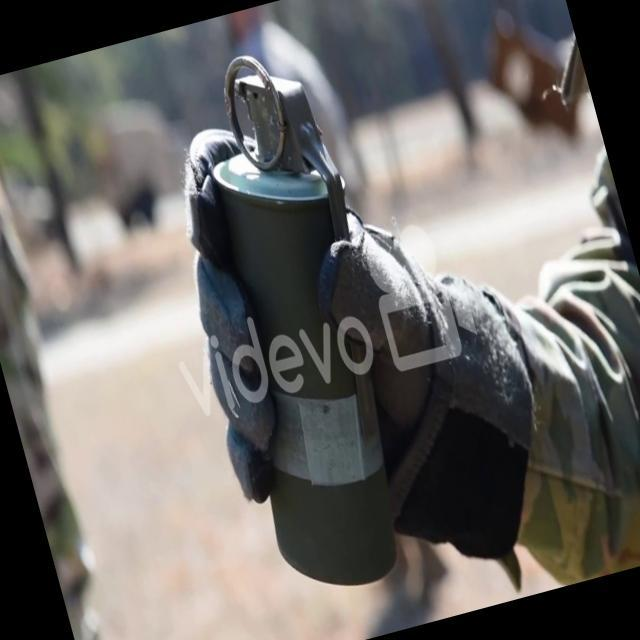grenade: (143, 29, 444, 608)
